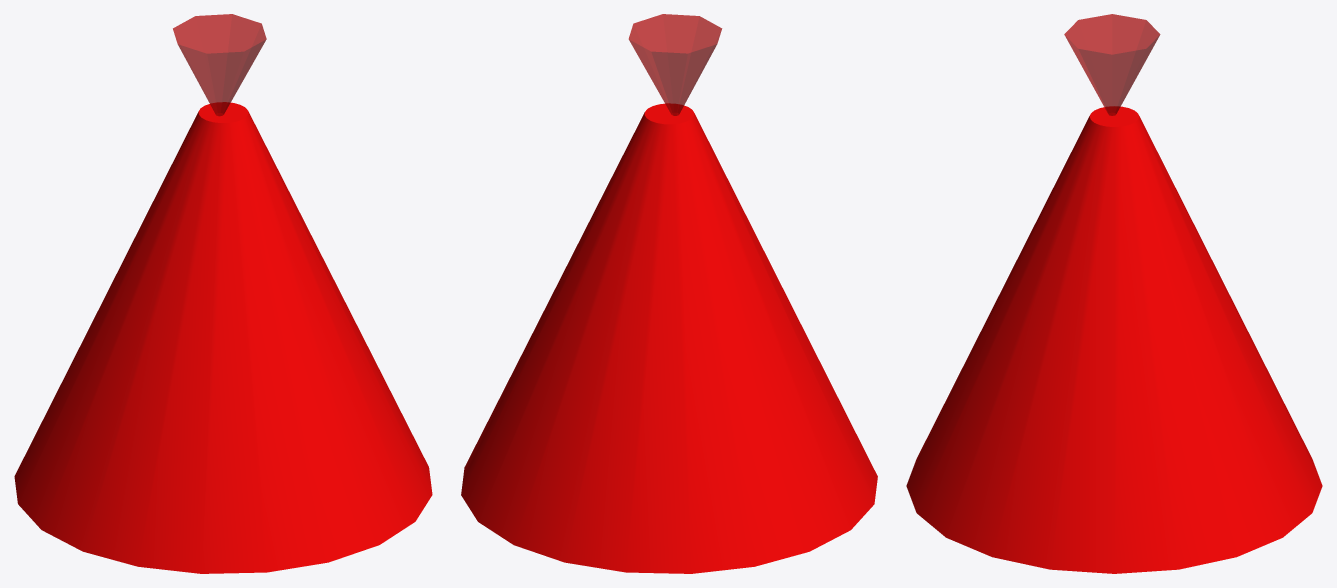
The model's file is SM_Bld_Teepee_02_Collision_NormalsInverted.fbx.
3 renders of one model, left to right at view 1: azimuth 30°, elevation 25°; view 2: azimuth 150°, elevation 25°; view 3: azimuth 270°, elevation 25°, orthographic.
Visible parts, largest first — view 1: SM_Bld_Teepee_02_Collision; view 2: SM_Bld_Teepee_02_Collision; view 3: SM_Bld_Teepee_02_Collision.
Part boxes in pixels (x1,y1,x2,y2): SM_Bld_Teepee_02_Collision: (14, 14, 432, 573); SM_Bld_Teepee_02_Collision: (461, 14, 877, 573); SM_Bld_Teepee_02_Collision: (906, 14, 1322, 573).
Size of the model in its own units: 506 by 602 by 506.
